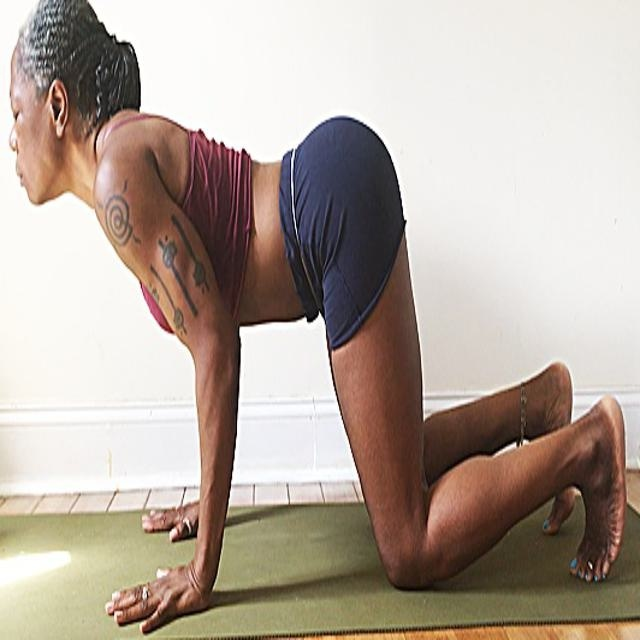Cow_Pose: (10, 5, 626, 630)
